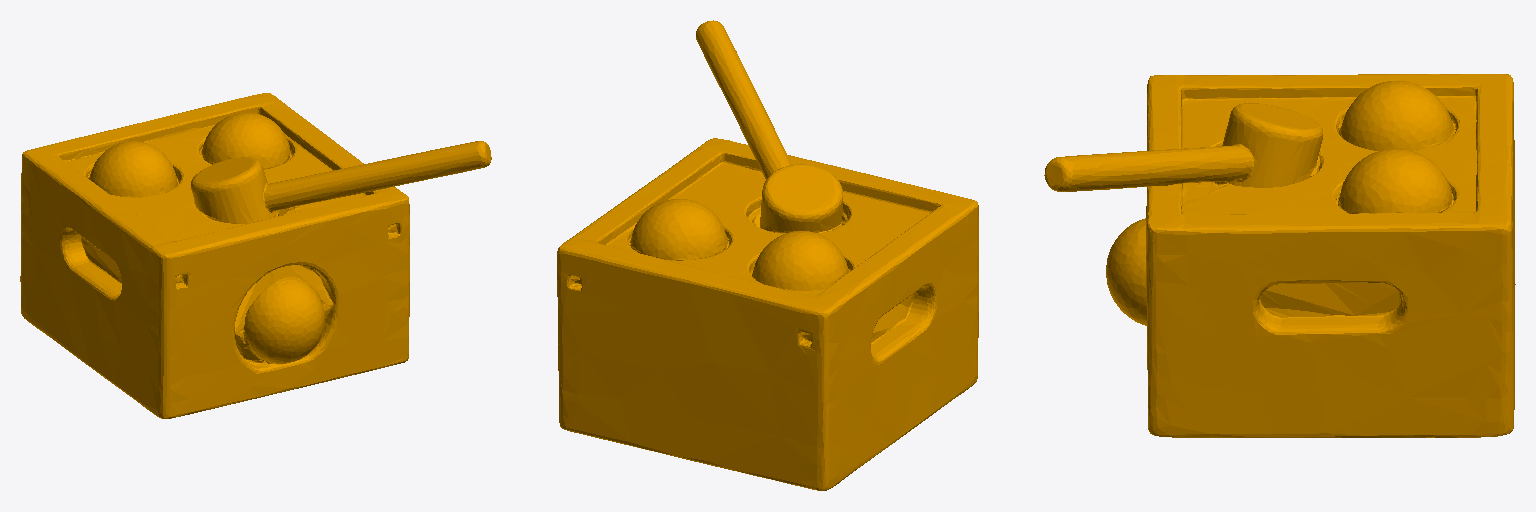
The robot description file, URDF, robot "d09hdpv7":
<?xml version='1.0'?>

<robot name="d09hdpv7">
    <static>false</static>
    <link name="link">
        <inertial>
            <mass value="0.036101880278970565"/>
            <inertia ixx="3.19687269011412e-05" ixy="6.028409366126738e-07" ixz="-3.8766306369025383e-07"
                     iyy="3.067880614438508e-05" iyz="-2.415866565710014e-07" izz="4.707426945922136e-05"/>
        </inertial>
        <collision name="collision">
            <geometry>
                <mesh filename="package://miscnet/train/d09hdpv7/collision_model_vhacd.obj"/>
            </geometry>
        </collision>
        <visual name="visual">
            <geometry>
                <mesh filename="package://miscnet/train/d09hdpv7/visual_model.obj"/>
            </geometry>
        </visual>
    </link>
</robot>

--- Facts derived from the render (not from the file) ---
3 views of the same robot in one strip: view 1: azimuth 30°, elevation 25°; view 2: azimuth 150°, elevation 25°; view 3: azimuth 270°, elevation 25° (orthographic).
Robot: d09hdpv7 — 1 links, 0 joints (none); root link link; default pose: every joint at zero.
Visible links, largest first — view 1: link; view 2: link; view 3: link.
Link boxes in pixels (box(x1,y1,x2,y2)): link: box(20, 93, 491, 418); link: box(557, 20, 978, 490); link: box(1044, 74, 1515, 437).
Size in the robot's own frame: 0.1012 by 0.11 by 0.0782 metres.
Meshes: 1 distinct files referenced, 1 mesh visuals loaded (1 OBJ).
